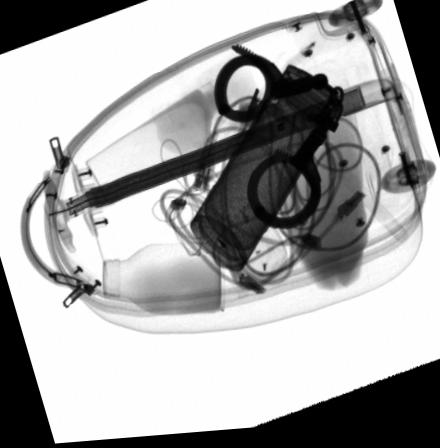HandCuffs: (212, 46, 350, 236)
